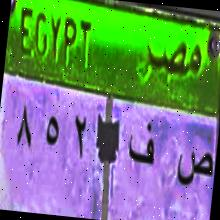2: (66, 99, 93, 172)
5: (38, 107, 64, 164)
8: (11, 103, 39, 162)
faa: (121, 115, 163, 182)
saad: (168, 135, 216, 201)
